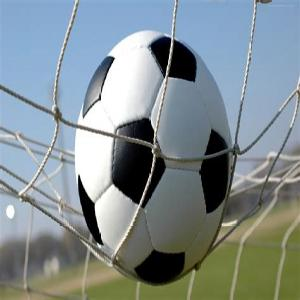Football: (68, 32, 238, 286)
